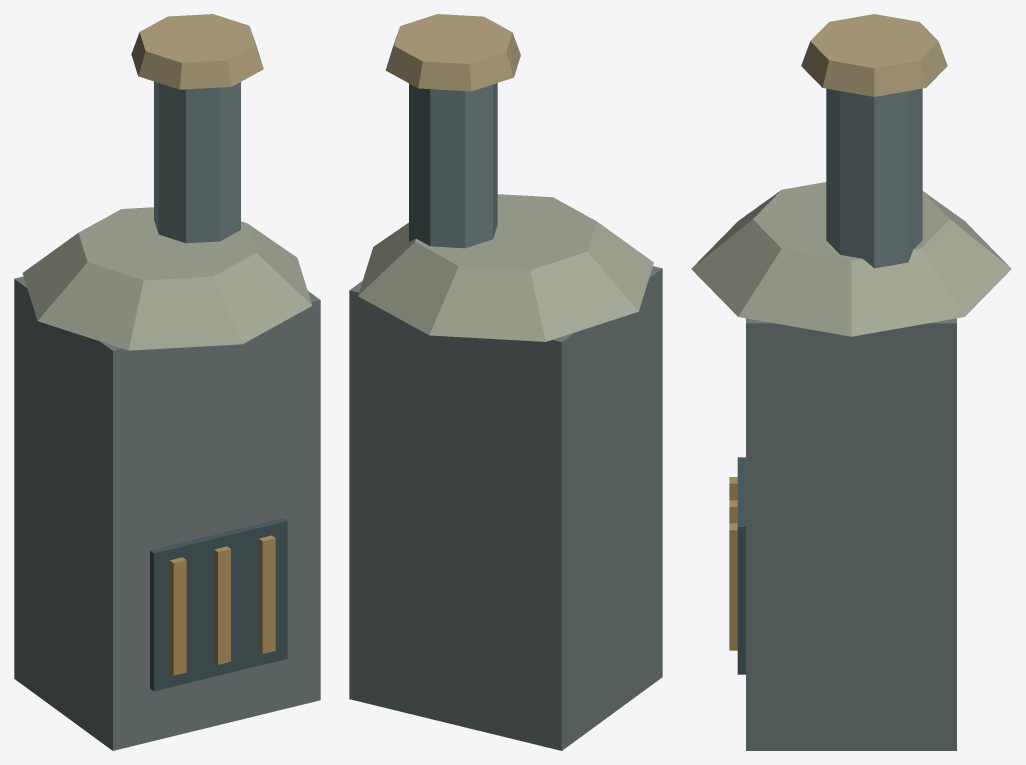
File: map-exclusive-v3__iron_01.glb
3 views of the same model, side by side, from view 1: azimuth 30°, elevation 25°; view 2: azimuth 150°, elevation 25°; view 3: azimuth 270°, elevation 25° (orthographic). The views are drawn at different scales.
Parts seen in each view (by area): view 1: iron_01; view 2: iron_01; view 3: iron_01.
Boxes of the visible parts, x1,y1,x2,y2 form: iron_01: [14, 14, 320, 750]; iron_01: [349, 14, 662, 750]; iron_01: [691, 14, 1011, 750].
Size of the model in its own units: 1.4 by 3.26 by 1.4.
